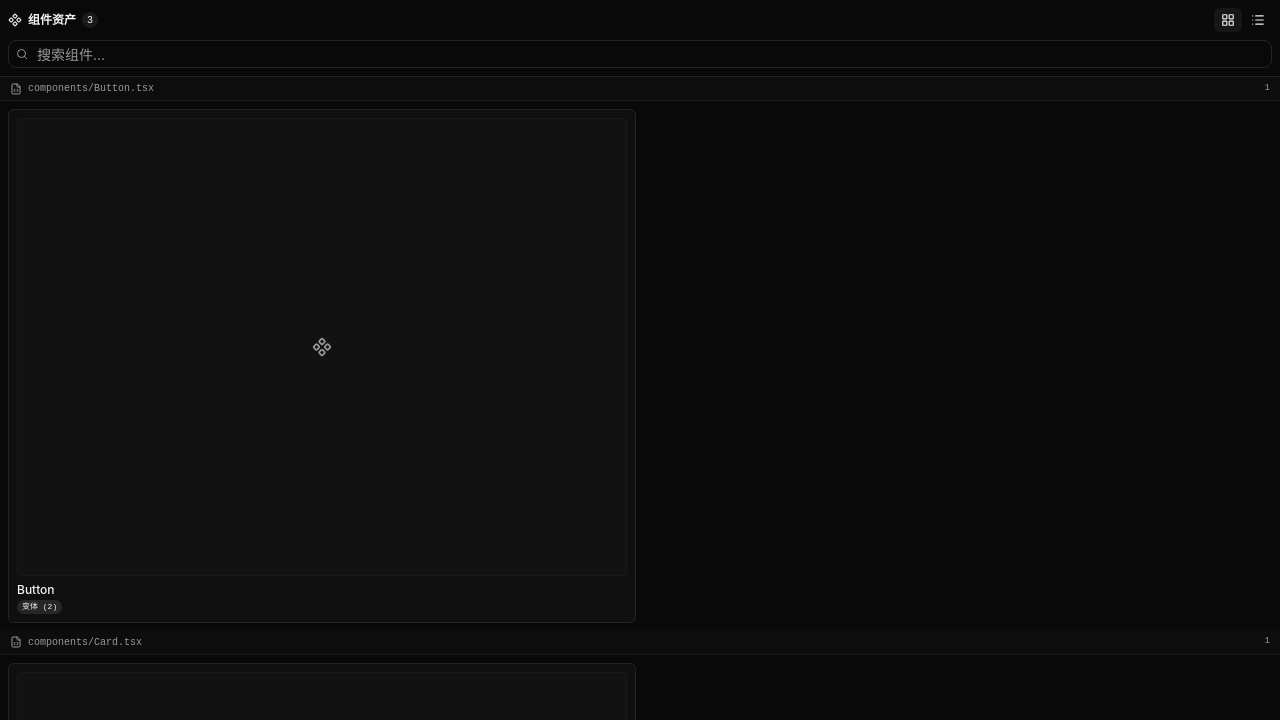
Test case: AssetsPanel › filters components based on search query
Step 1. Type "Card" into the field with placeholder "搜索组件..." → (640, 54), box [8, 40, 1272, 68]
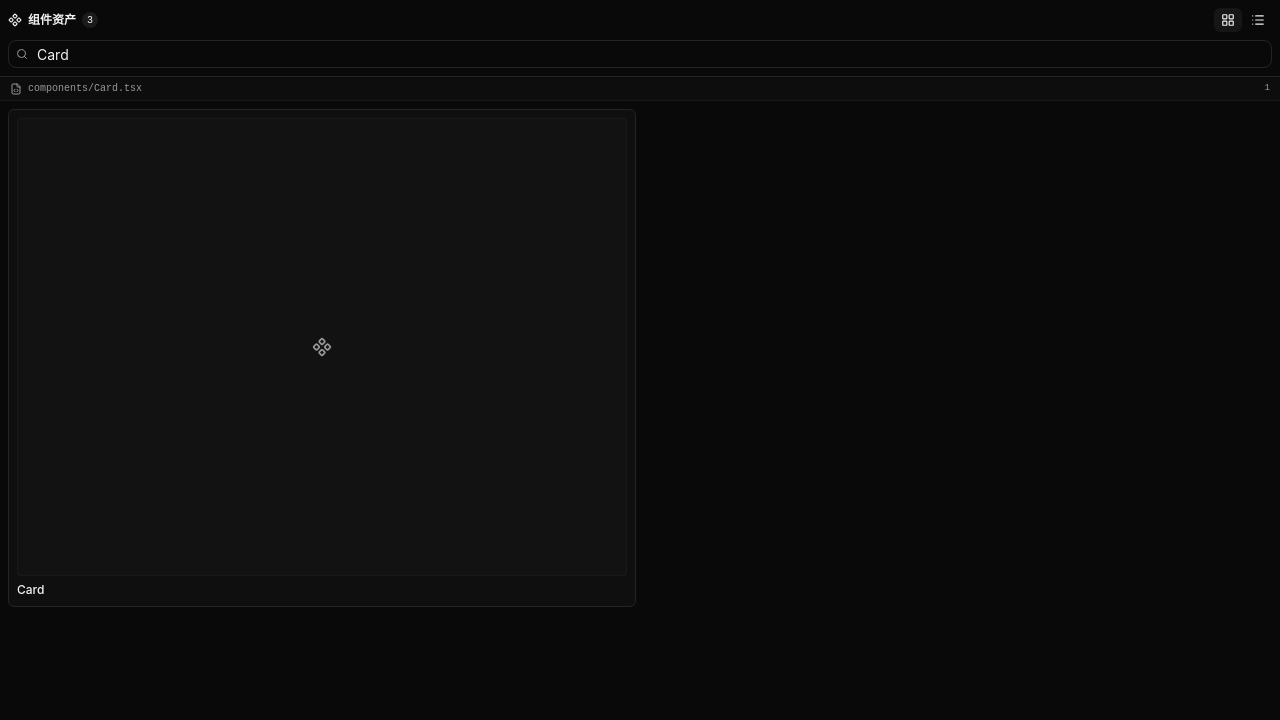
Expected: the text "Card" is shown, [17, 582, 44, 598]
Expected: the text "Button" is gone
